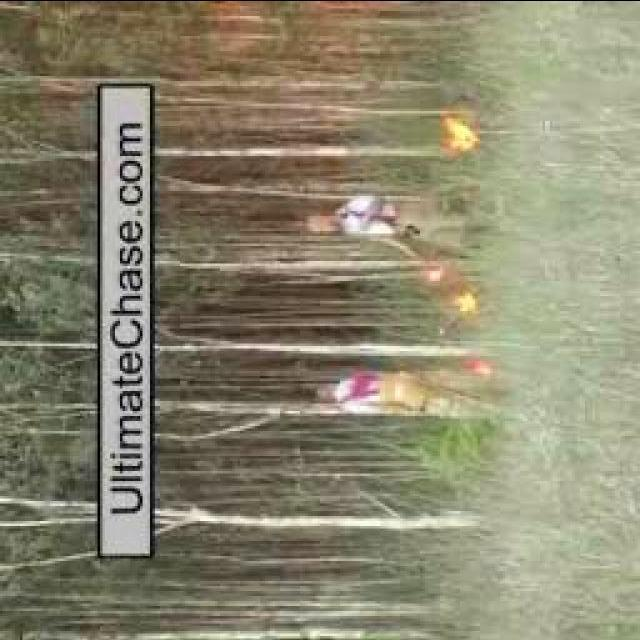Fire: (426, 262, 489, 312), (444, 106, 486, 153), (470, 362, 497, 376)
